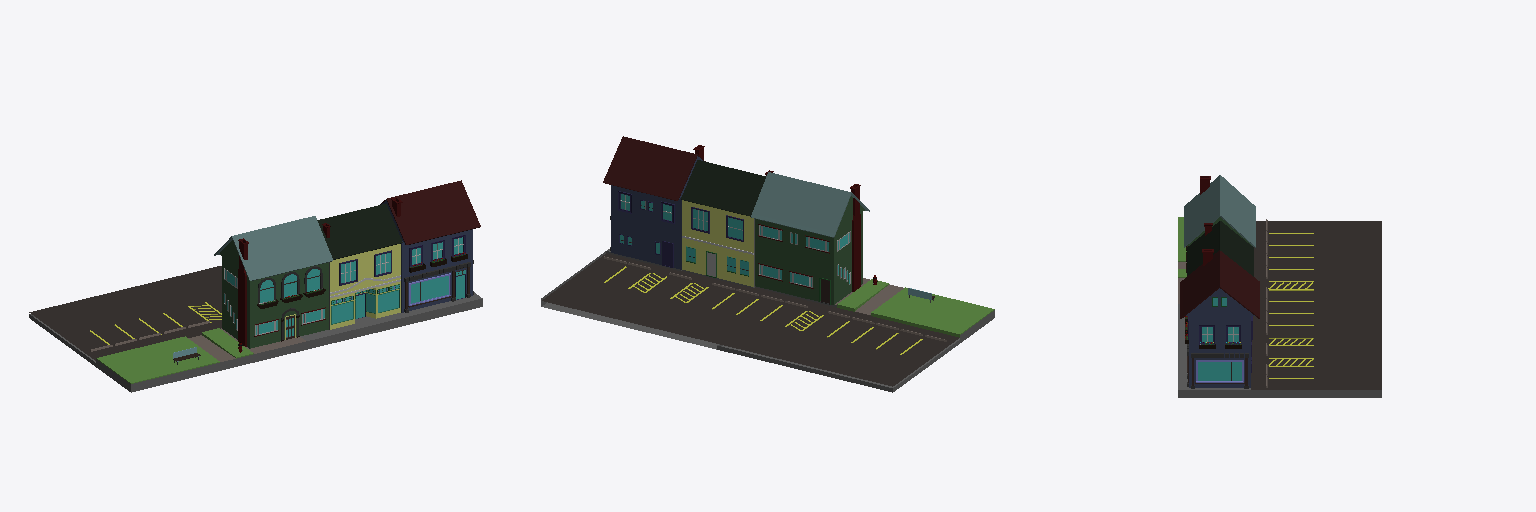
Rendered from store_doublesquare.obj.
3 renders of one model, left to right at view 1: azimuth 30°, elevation 25°; view 2: azimuth 150°, elevation 25°; view 3: azimuth 270°, elevation 25°, orthographic.
Parts seen in each view (by area): view 1: store_doublesquare_h; view 2: store_doublesquare_h; view 3: store_doublesquare_h.
Boxes of the visible parts, <box> form: store_doublesquare_h: <box>29,180,482,392</box>; store_doublesquare_h: <box>541,136,994,392</box>; store_doublesquare_h: <box>1178,175,1381,397</box>.
Bounding box in the file's own units: 44 × 13.53 × 22.